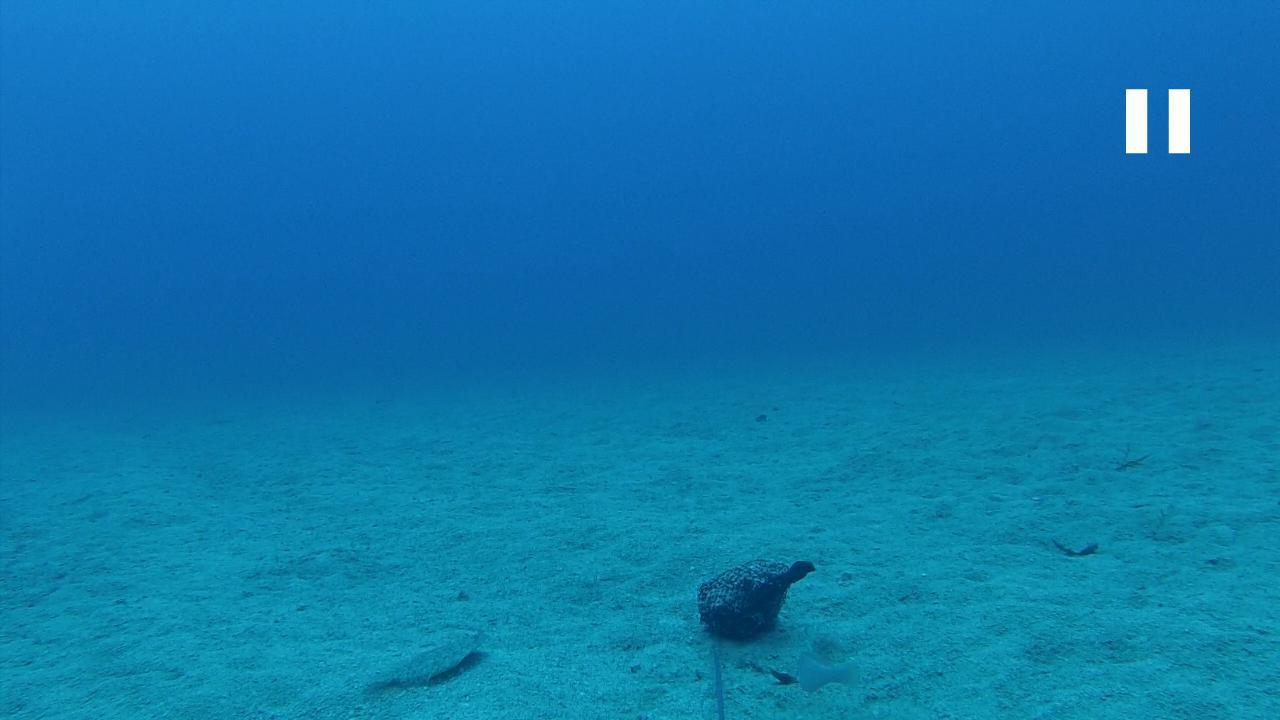bothus: (361, 628, 494, 698)
